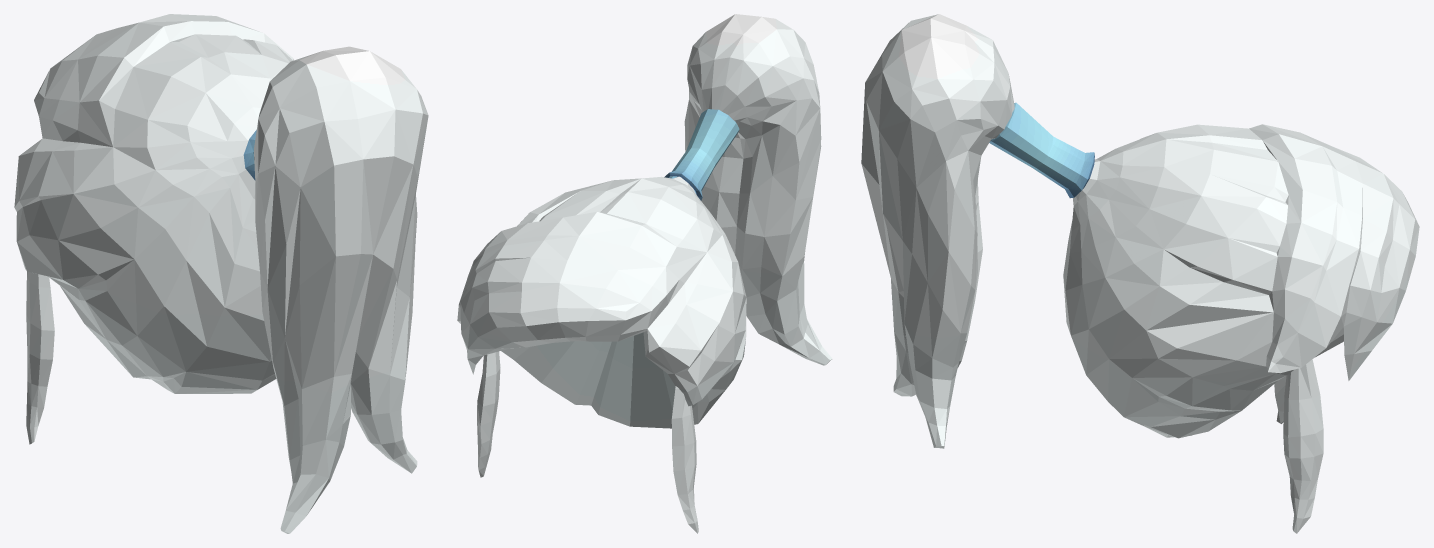
Rendered from CharSkyKid_Hair_AP08Ponytail_01.glb.
3 views of the same model, side by side, from view 1: azimuth 30°, elevation 25°; view 2: azimuth 150°, elevation 25°; view 3: azimuth 270°, elevation 25° (orthographic). The views are drawn at different scales.
Parts seen in each view (by area): view 1: CharSkyKid_Hair_AP08Ponytail_01; view 2: CharSkyKid_Hair_AP08Ponytail_01; view 3: CharSkyKid_Hair_AP08Ponytail_01.
Boxes of the visible parts, x1=… form: CharSkyKid_Hair_AP08Ponytail_01: x1=14, y1=14, x2=428, y2=533; CharSkyKid_Hair_AP08Ponytail_01: x1=457, y1=14, x2=832, y2=533; CharSkyKid_Hair_AP08Ponytail_01: x1=861, y1=14, x2=1419, y2=533.
Bounding box in the file's own units: 2.71 × 4.2 × 4.67.
Materials: 1 (1 with a texture image).
